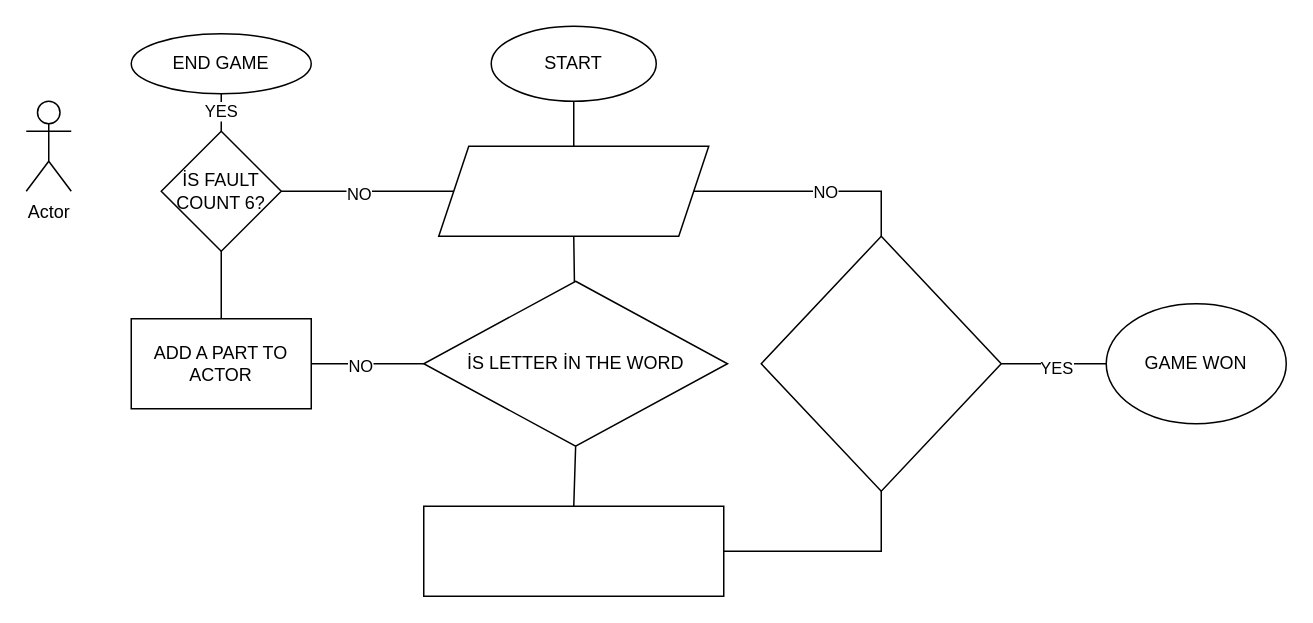
Image size: 1313x623. Some labels were removed from this diagram. The box of each missing label's shape, as (x1, y1, x2, y2) in pixels:
ASK FOR A LETTER: (437, 145, 709, 236)
İS ALL OF THE WORD REVEALED: (760, 235, 1001, 491)
REVEAL THE LETTER: (422, 505, 724, 596)
